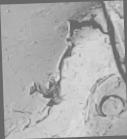crack: (0, 1, 127, 139)
